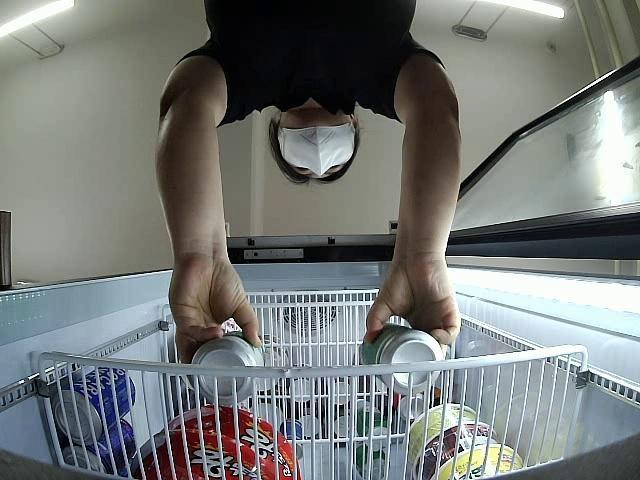12_chilsungCider: (360, 322, 441, 394), (188, 331, 260, 406)
